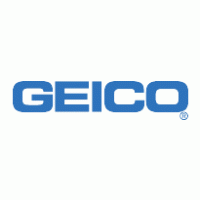Geico: (14, 79, 189, 111)
